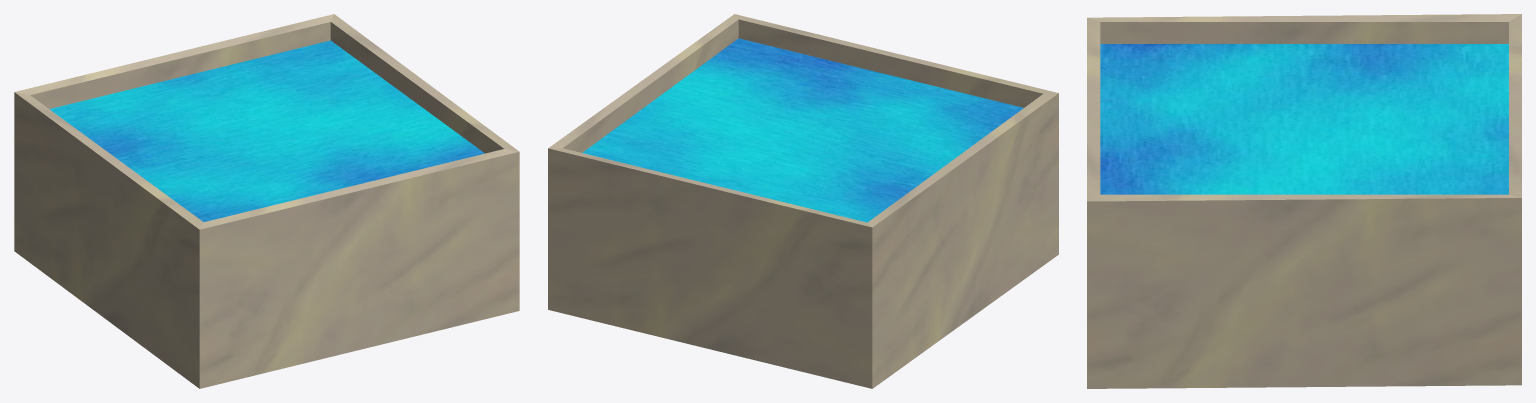
The model's file is Piscinao.dae.
3 renders of one model, left to right at view 1: azimuth 30°, elevation 25°; view 2: azimuth 150°, elevation 25°; view 3: azimuth 270°, elevation 25°, orthographic. The views are drawn at different scales.
Visible parts, largest first — view 1: Cube, Plane; view 2: Cube, Plane; view 3: Cube, Plane.
Boxes of the visible parts, x1,y1,x2,y2 form: Cube: [14, 14, 519, 388]; Plane: [49, 40, 484, 221]; Cube: [548, 14, 1058, 388]; Plane: [582, 38, 1023, 222]; Cube: [1087, 14, 1521, 388]; Plane: [1100, 44, 1508, 194].
Size of the model in its own units: 263 by 262 by 127.
